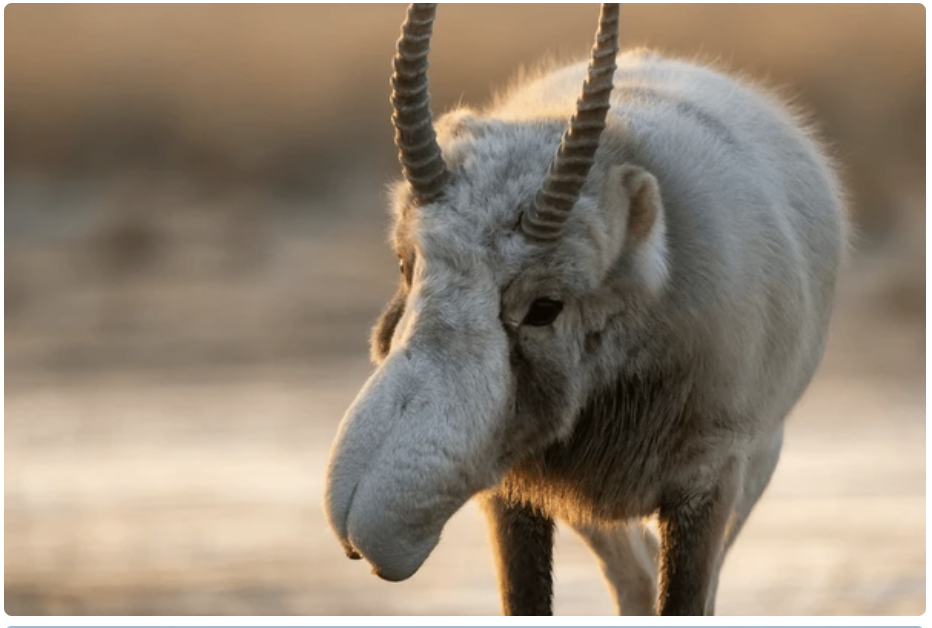saiga: (324, 5, 853, 628)
